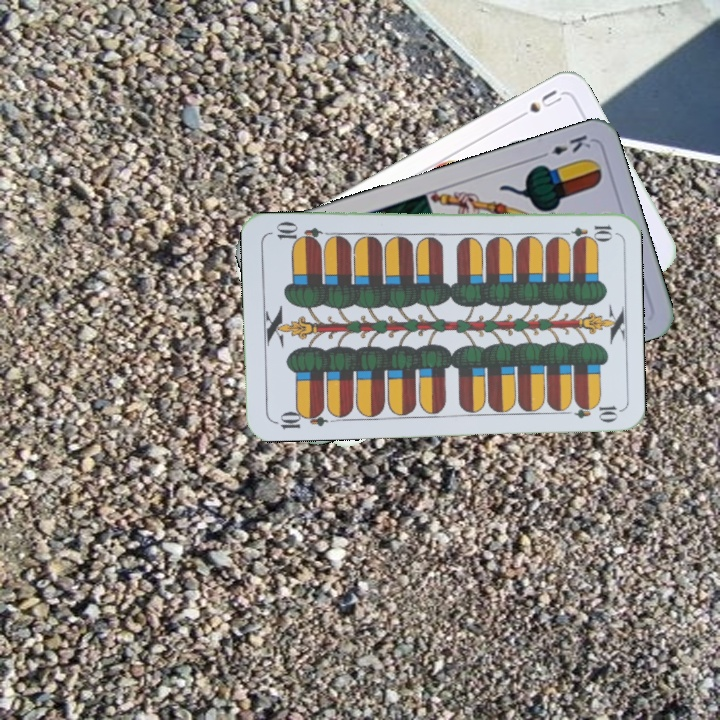E10: (270, 404, 329, 431), (556, 221, 615, 240)
EK: (534, 130, 594, 161)
SU: (510, 85, 565, 124)
